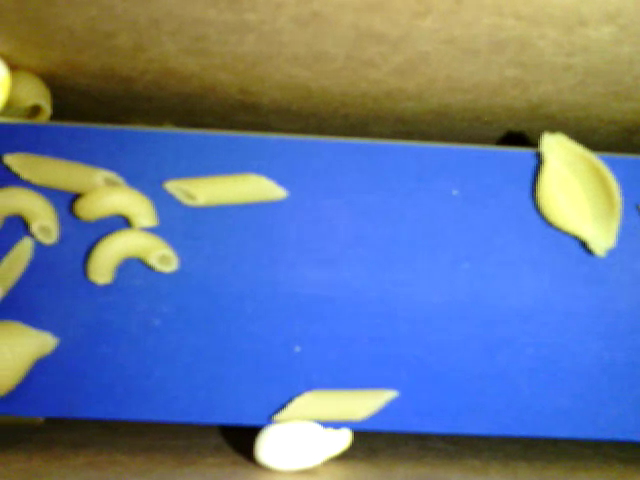elbow: (86, 227, 180, 283), (75, 185, 162, 230), (1, 189, 62, 249)
penne: (5, 150, 128, 198), (273, 387, 401, 422), (167, 172, 288, 205)
shell: (534, 129, 621, 260), (2, 318, 59, 397), (1, 64, 54, 126)
